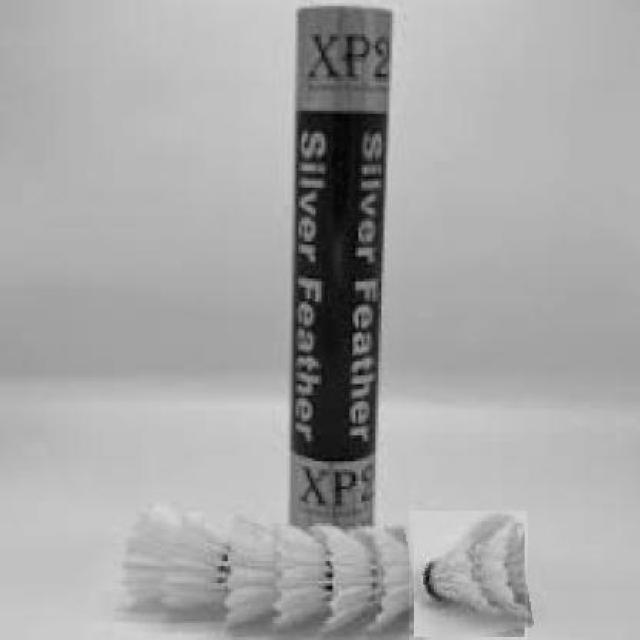Shuttlecock: (409, 511, 528, 640)
